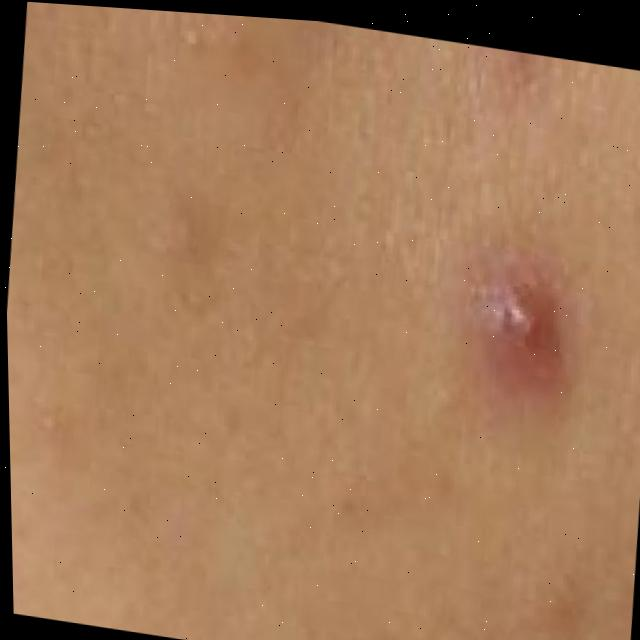Acne: (467, 266, 553, 360)
